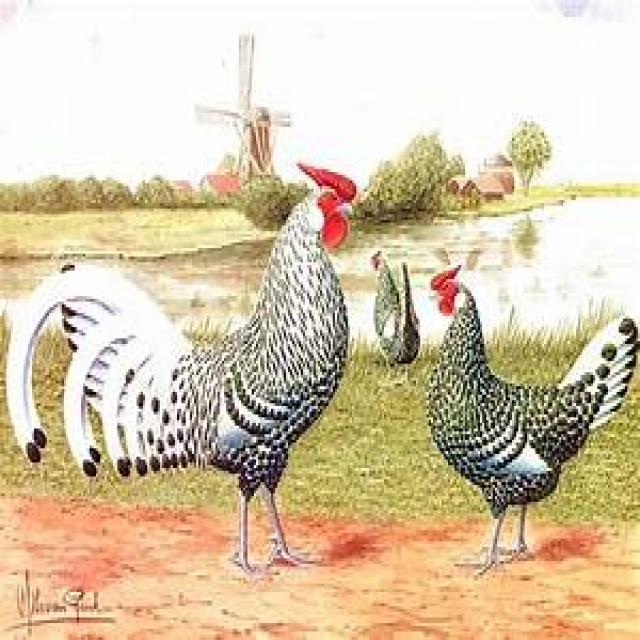animal: (6, 161, 358, 561), (430, 264, 640, 569), (368, 245, 421, 373)
